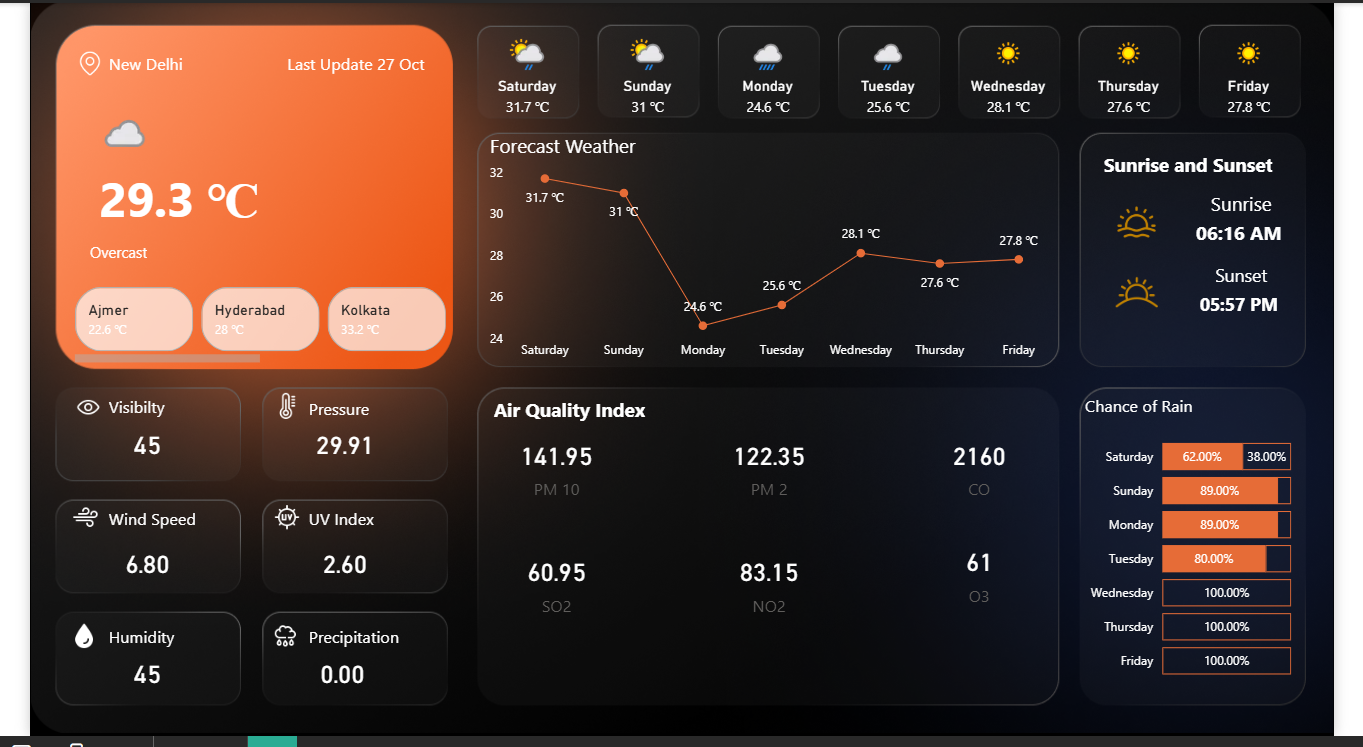

This screenshot's page, from the dashboard's own definition file:
{"tool":"powerbi","page":{"name":"Page 1","canvas":[1280,720],"ordinal":0},"visuals":[{"type":"advancedSlicerVisual","fields":{"Values":["Location.location.name"]},"box":[39.8,273.1,376,86.4],"z":0},{"type":"shape","box":[39.8,137.2,214.1,107],"z":1000},{"type":"shape","box":[59,219.6,214.1,49.4],"z":2000},{"type":"shape","box":[76.8,34.3,105.7,49.4],"z":3000},{"type":"image","box":[39.8,42.5,38.4,32.9],"z":4000},{"type":"shape","box":[227.8,34.3,159.2,49.4],"z":5000},{"type":"cardVisual","fields":{"Data":["Min(Current Data.current.condition.icon)"]},"box":[43.9,83.7,102.9,78.2],"z":6000},{"type":"image","box":[35.7,378.7,43.9,35.7],"z":7000},{"type":"image","box":[231.9,377.4,41.2,35.7],"z":8000},{"type":"image","box":[37,487.1,35.7,35.7],"z":9000},{"type":"image","box":[230.5,487.1,42.5,35.7],"z":10000},{"type":"image","box":[32.9,603.8,39.8,35.7],"z":11000},{"type":"image","box":[227.8,603.8,45.3,35.7],"z":12000},{"type":"shape","box":[76.8,377.4,93.3,35.7],"z":13000},{"type":"shape","box":[273.1,378.7,93.3,35.7],"z":14000},{"type":"shape","box":[76.8,487.1,93.3,35.7],"z":15000},{"type":"shape","box":[273.1,487.1,93.3,35.7],"z":16000},{"type":"shape","box":[76.8,603.8,93.3,35.7],"z":17000},{"type":"shape","box":[273.1,603.8,93.3,35.7],"z":18000},{"type":"card","fields":{"Values":["Sum(Current Data.current.humidity)"]},"box":[79.6,639.5,71.4,38.4],"z":19000},{"type":"card","fields":{"Values":["Sum(Current Data.current.humidity)"]},"box":[79.6,414.4,71.4,38.4],"z":20000},{"type":"card","fields":{"Values":["Sum(Current Data.current.wind_kph)"]},"box":[79.6,531,71.4,38.4],"z":21000},{"type":"card","fields":{"Values":["Sum(Current Data.current.pressure_in)"]},"box":[273.1,414.4,71.4,38.4],"z":22000},{"type":"card","fields":{"Values":["Sum(Current Data.current.uv)"]},"box":[273.1,531,71.4,38.4],"z":23000},{"type":"card","fields":{"Values":["Sum(Current Data.current.precip_in)"]},"box":[271.7,639.5,71.4,38.4],"z":24000},{"type":"advancedSlicerVisual","fields":{"Values":["Forcast data by day.Day Format Week"]},"box":[427.8,23.8,830.2,104.3],"z":25000},{"type":"lineChart","title":"Forecast Weather","fields":{"Y":["Sum(Forcast data by day.forecast.forecastday.day.avgtemp_c)"],"Category":["Forcast data by day.Day Format Week"]},"box":[446.1,127.7,560.2,231.6],"z":26000},{"type":"shape","box":[1054,137.4,168.1,40.5],"z":27000},{"type":"shape","box":[1127.6,199,117.8,52.8],"z":28000},{"type":"shape","box":[1127.6,268.9,117.8,52.8],"z":29000},{"type":"shape","box":[1129.8,170.8,117.8,52.8],"z":30000},{"type":"shape","box":[1129.8,240.7,117.8,52.8],"z":31000},{"type":"image","box":[1062.7,188.6,47.8,51.6],"z":32000},{"type":"image","box":[1053.9,251.5,65.4,65.4],"z":33000},{"type":"hundredPercentStackedBarChart","title":"Chance of Rain","fields":{"Y":["Sum(Forcast data by day.forecast.forecastday.day.daily_chance_of_rain)","Measure.Left value Rain"],"Category":["Forcast data by day.Day Format Week"]},"box":[1031.2,383.6,212.5,294.3],"z":34000},{"type":"shape","box":[455.2,379.1,150.9,39.3],"z":35000},{"type":"card","fields":{"Values":["Sum(Current Data.current.air_quality.co)"]},"box":[869.8,418.4,124.1,73.9],"z":36000},{"type":"card","fields":{"Values":["Sum(Current Data.current.air_quality.no2)"]},"box":[663.9,531.9,124.1,73.9],"z":37000},{"type":"card","fields":{"Values":["Sum(Current Data.current.air_quality.o3)"]},"box":[869.8,522.7,124.1,73.9],"z":38000},{"type":"card","fields":{"Values":["Sum(Current Data.current.air_quality.pm10)"]},"box":[455.4,418.4,124.1,73.9],"z":39000},{"type":"card","fields":{"Values":["Sum(Current Data.current.air_quality.so2)"]},"box":[455.4,531.9,124.1,73.9],"z":40000},{"type":"card","fields":{"Values":["Sum(Current Data.current.air_quality.pm2_5)"]},"box":[663.9,418.4,124.1,73.9],"z":41000}]}

Visuals, with their boxes in screenshot pixels (x1, y1, x2, y2), scaled from the page's 1280x720 canvas onto the 1363x747 screenshot:
advancedSlicerVisual - Location.location.name: 42,283,443,373
shape: 42,142,270,253
shape: 63,228,291,279
shape: 82,36,194,87
image: 42,44,83,78
shape: 243,36,412,87
cardVisual - Min(Current Data.current.condition.icon): 47,87,156,168
image: 38,393,85,430
image: 247,392,291,429
image: 39,505,77,542
image: 245,505,291,542
image: 35,626,77,663
image: 243,626,291,663
shape: 82,392,181,429
shape: 291,393,390,430
shape: 82,505,181,542
shape: 291,505,390,542
shape: 82,626,181,663
shape: 291,626,390,663
card - Sum(Current Data.current.humidity): 85,663,161,703
card - Sum(Current Data.current.humidity): 85,430,161,470
card - Sum(Current Data.current.wind_kph): 85,551,161,591
card - Sum(Current Data.current.pressure_in): 291,430,367,470
card - Sum(Current Data.current.uv): 291,551,367,591
card - Sum(Current Data.current.precip_in): 289,663,365,703
advancedSlicerVisual - Forcast data by day.Day Format Week: 456,25,1340,133
"Forecast Weather" lineChart: 475,132,1072,373
shape: 1122,143,1301,185
shape: 1201,206,1326,261
shape: 1201,279,1326,334
shape: 1203,177,1328,232
shape: 1203,250,1328,305
image: 1132,196,1183,249
image: 1122,261,1192,329
"Chance of Rain" hundredPercentStackedBarChart: 1098,398,1324,703
shape: 485,393,645,434
card - Sum(Current Data.current.air_quality.co): 926,434,1058,511
card - Sum(Current Data.current.air_quality.no2): 707,552,839,629
card - Sum(Current Data.current.air_quality.o3): 926,542,1058,619
card - Sum(Current Data.current.air_quality.pm10): 485,434,617,511
card - Sum(Current Data.current.air_quality.so2): 485,552,617,629
card - Sum(Current Data.current.air_quality.pm2_5): 707,434,839,511
